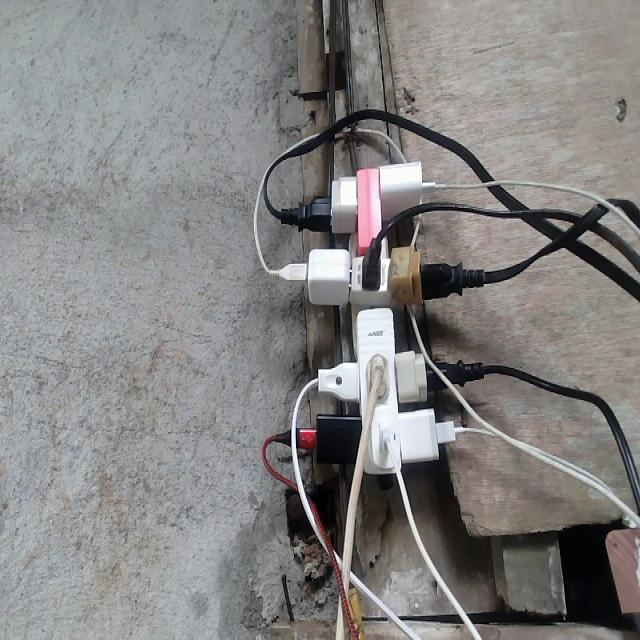-: (292, 158, 464, 478)
